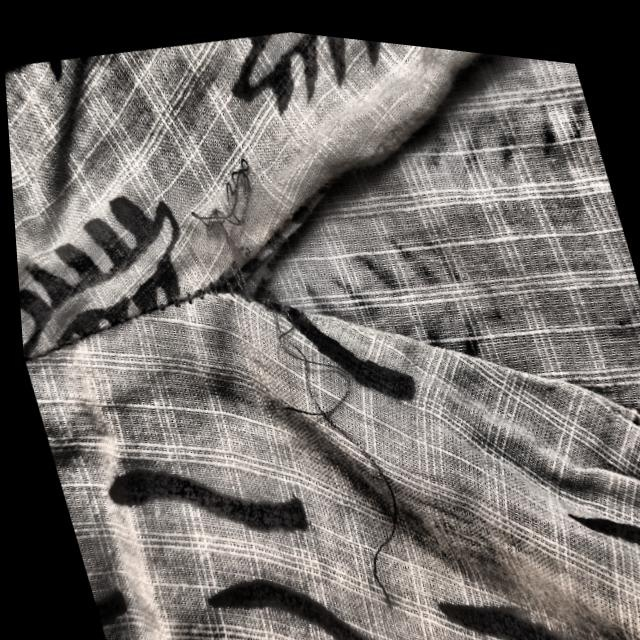Stitch: (105, 76, 490, 639)
